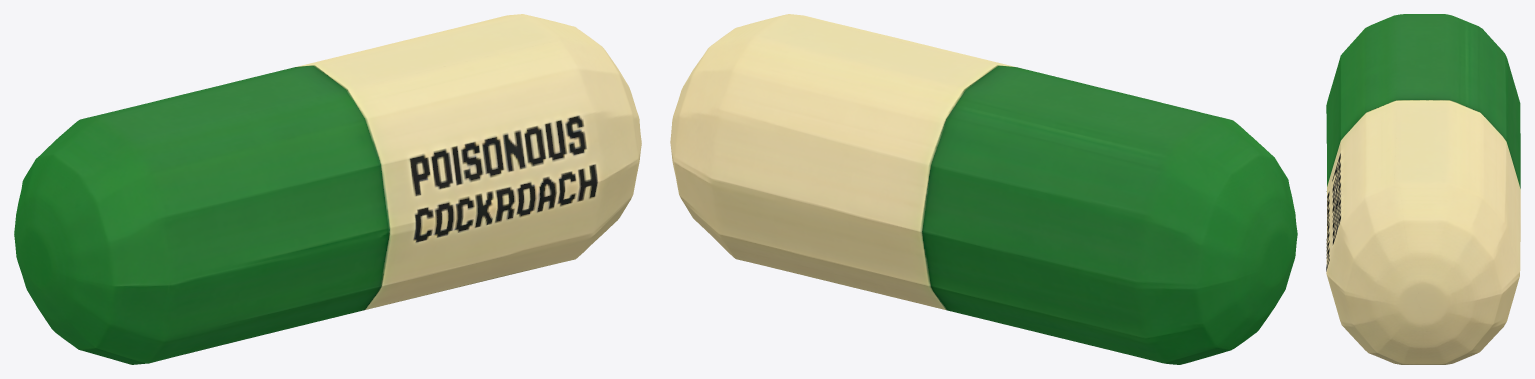
Rendered from base_basic_shaded.fbx.
3 renders of one model, left to right at view 1: azimuth 30°, elevation 25°; view 2: azimuth 150°, elevation 25°; view 3: azimuth 270°, elevation 25°, orthographic. The views are drawn at different scales.
Parts seen in each view (by area): view 1: model; view 2: model; view 3: model.
Part boxes in pixels (<box>): model: <box>14,14,641,364</box>; model: <box>670,14,1297,364</box>; model: <box>1326,14,1520,364</box>.
Size of the model in its own units: 188 by 68.37 by 66.57.
